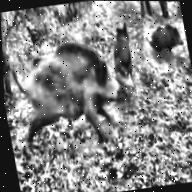boar: (5, 22, 132, 164)
